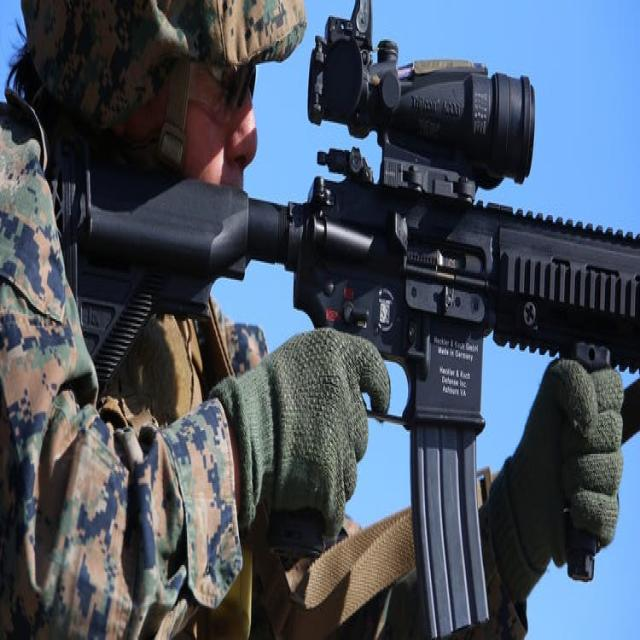Rifle: (50, 0, 640, 640)
